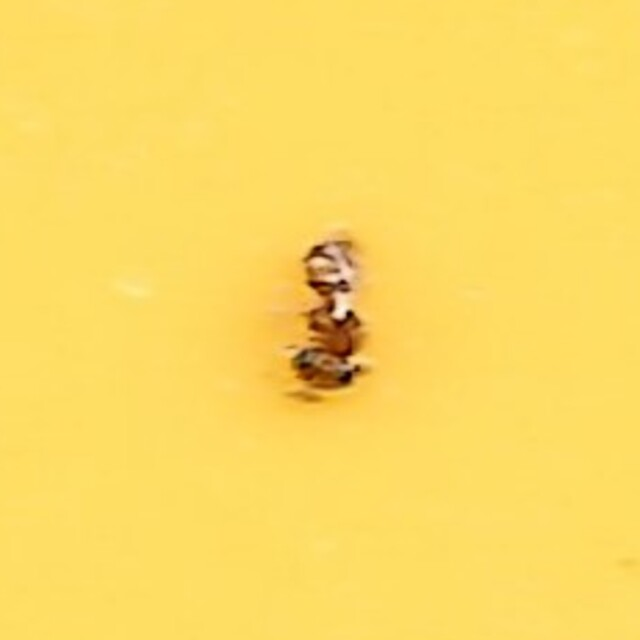Hymenoptera: (277, 229, 363, 411)
